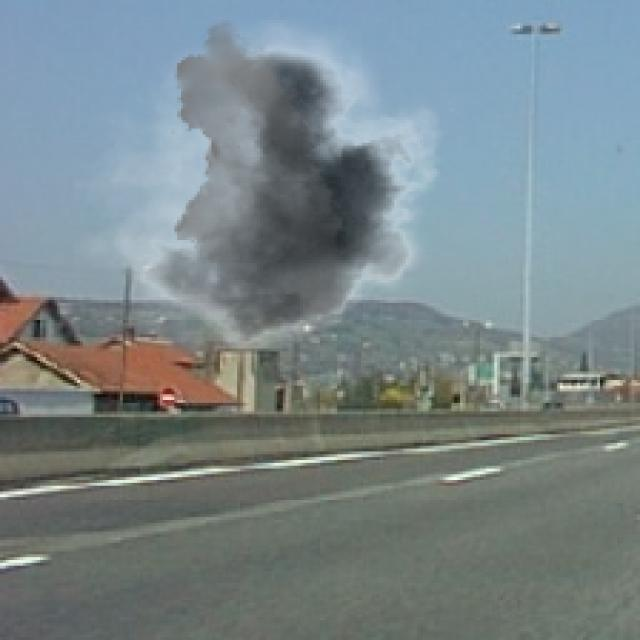Smoke: (71, 19, 460, 372)
